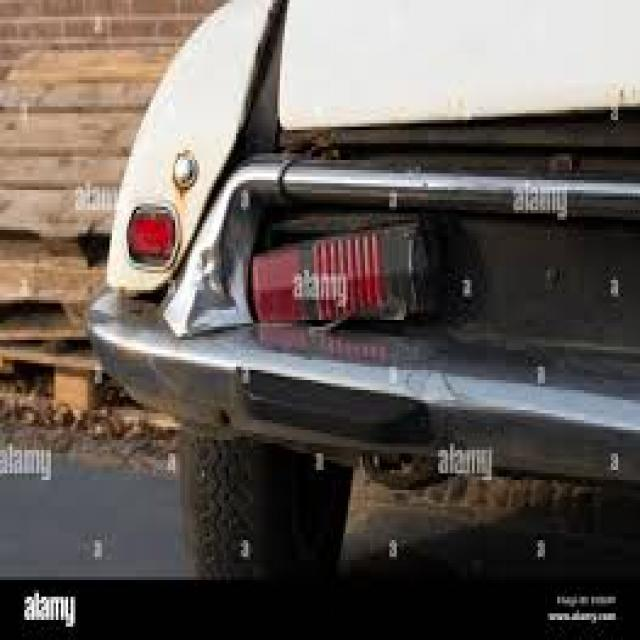damaged-tail-light: (251, 218, 434, 342)
